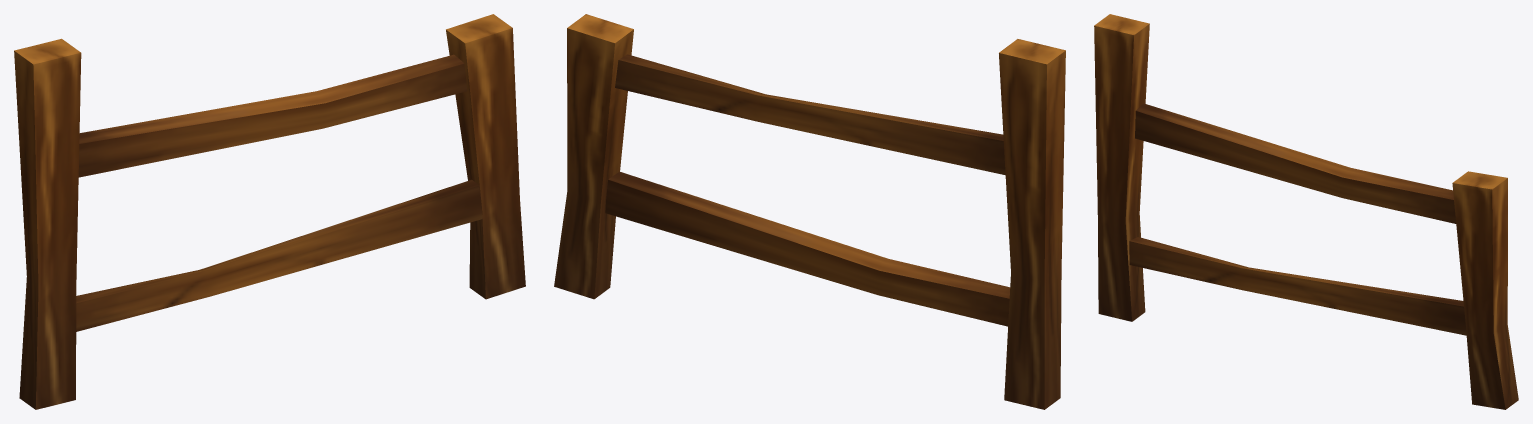
The model's file is fence_3.fbx.
3 views of the same model, side by side, from view 1: azimuth 30°, elevation 25°; view 2: azimuth 150°, elevation 25°; view 3: azimuth 330°, elevation 25° (orthographic). The views are drawn at different scales.
Parts seen in each view (by area): view 1: fence_3; view 2: fence_3; view 3: fence_3.
Boxes of the visible parts, x1,y1,x2,y2 form: fence_3: (14,14,525,409); fence_3: (554,14,1065,409); fence_3: (1094,14,1518,409).
Bounding box in the file's own units: 1.94 × 1.3 × 0.1487.
